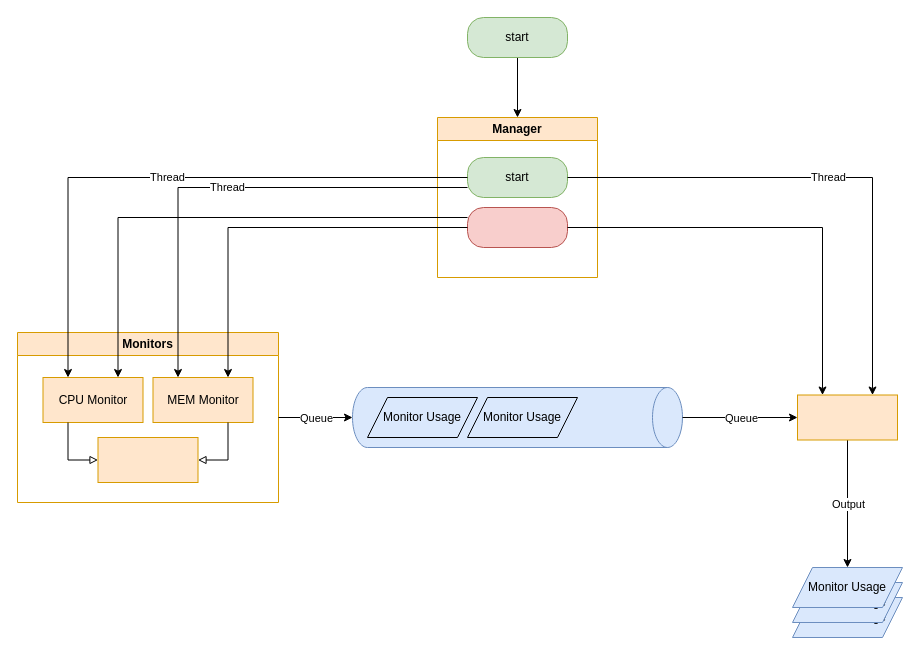
Image size: 920x655. Some labels were removed from this diagram. Each missing label, with the centre of its shape:
"Base Monitor" goes at point (147, 459).
"Receiver" goes at point (847, 417).
"stop" goes at point (517, 227).
